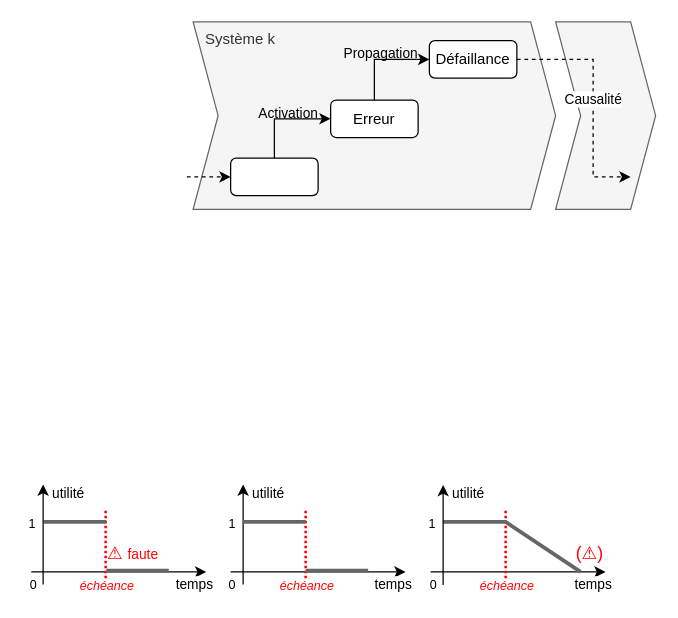
This 678x618 diagram has some shape labels left out. The centre of each missing label's shape, as x and y in pixels:
"Faute" belongs at (273,176).
"k+1" belongs at (605,115).
